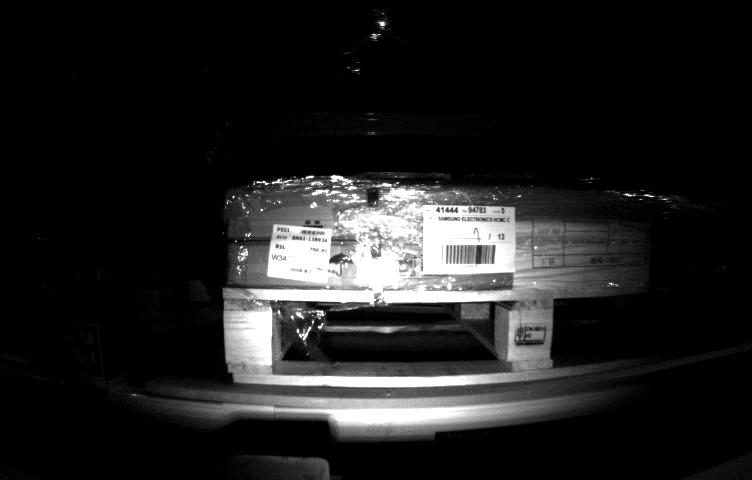True Barcode: (268, 221, 332, 287)
